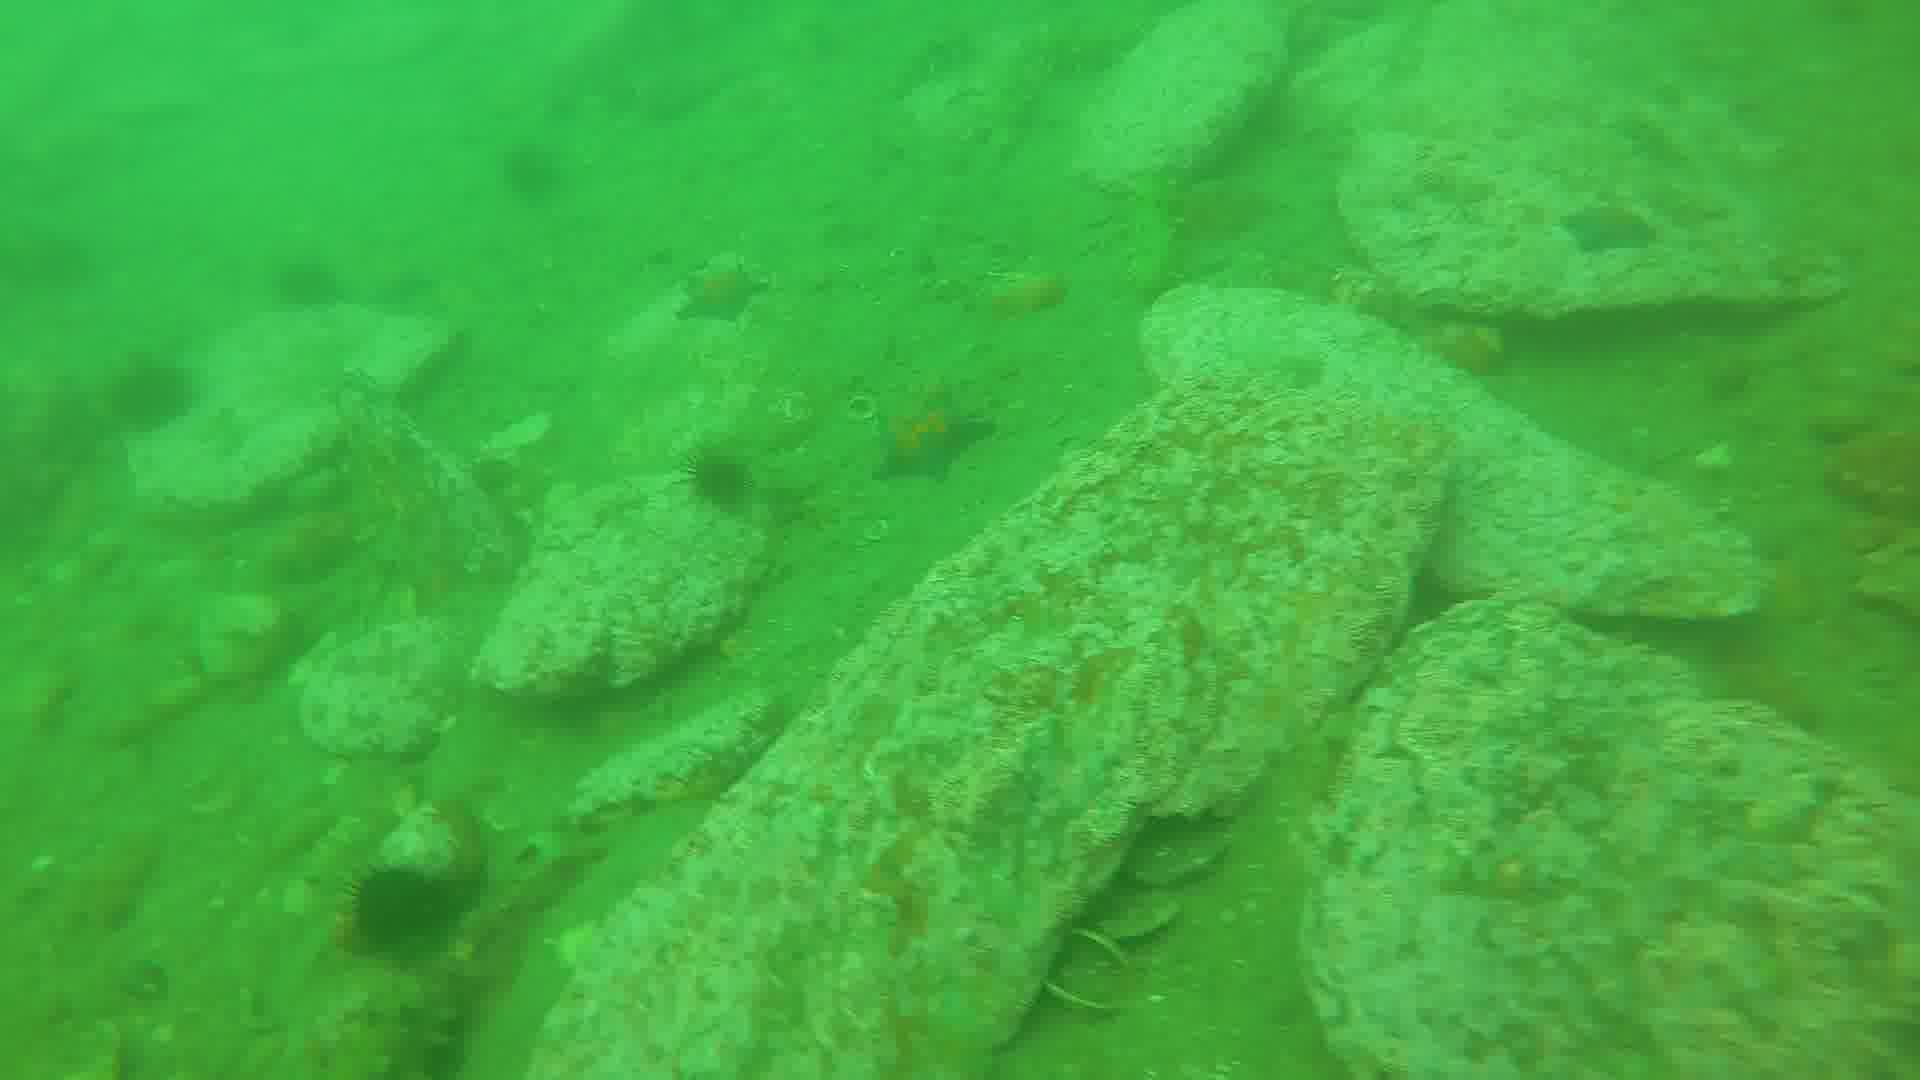echinus: (345, 866, 448, 951), (108, 361, 203, 421), (688, 450, 757, 512), (280, 266, 331, 297)
scallop: (1034, 916, 1150, 1021)
starfish: (877, 394, 988, 488), (1563, 204, 1658, 255), (680, 274, 765, 324)
